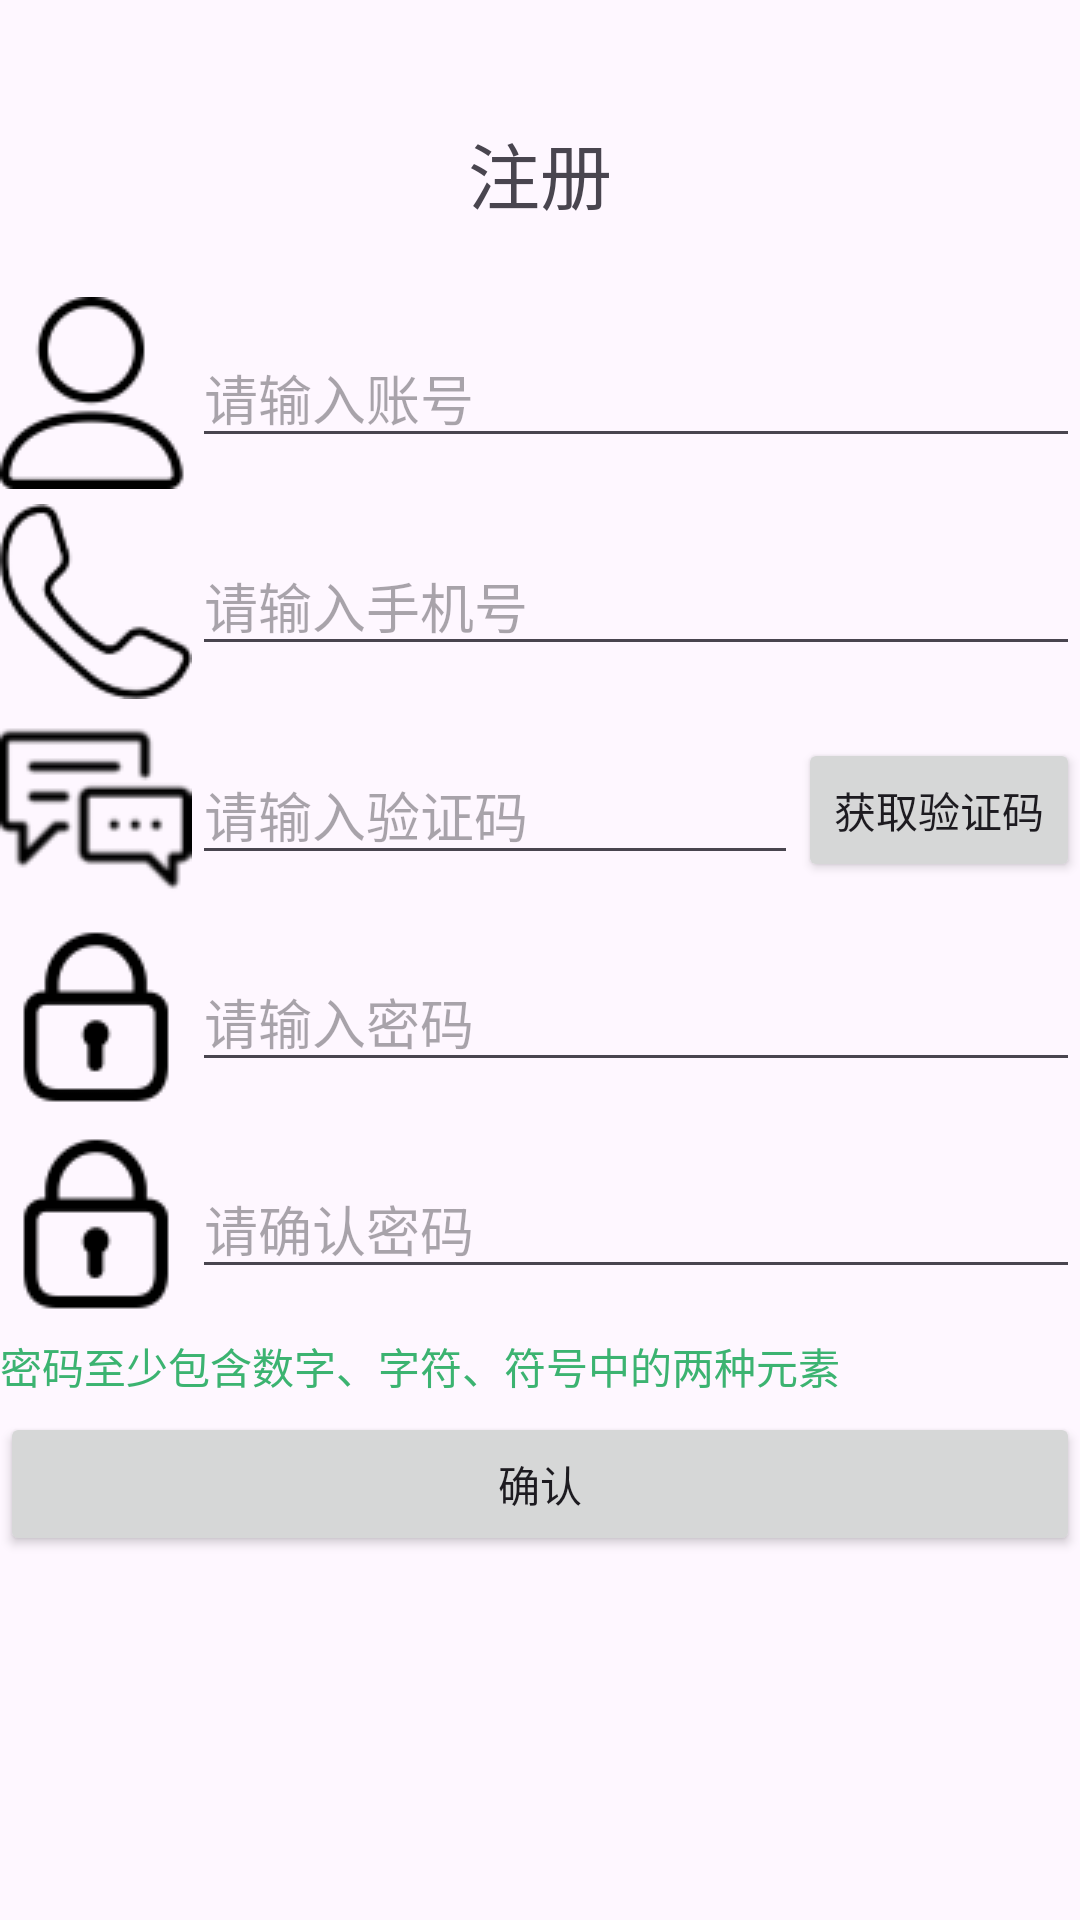

Icon bounding boxes for this 1080px x 1920px phone screenshot, format (x1, y1, x2, y2):
lock: (23, 932, 169, 1102), (23, 1139, 169, 1309)
message: (0, 729, 192, 889)
phone: (0, 504, 192, 699)
user: (0, 297, 184, 489)
